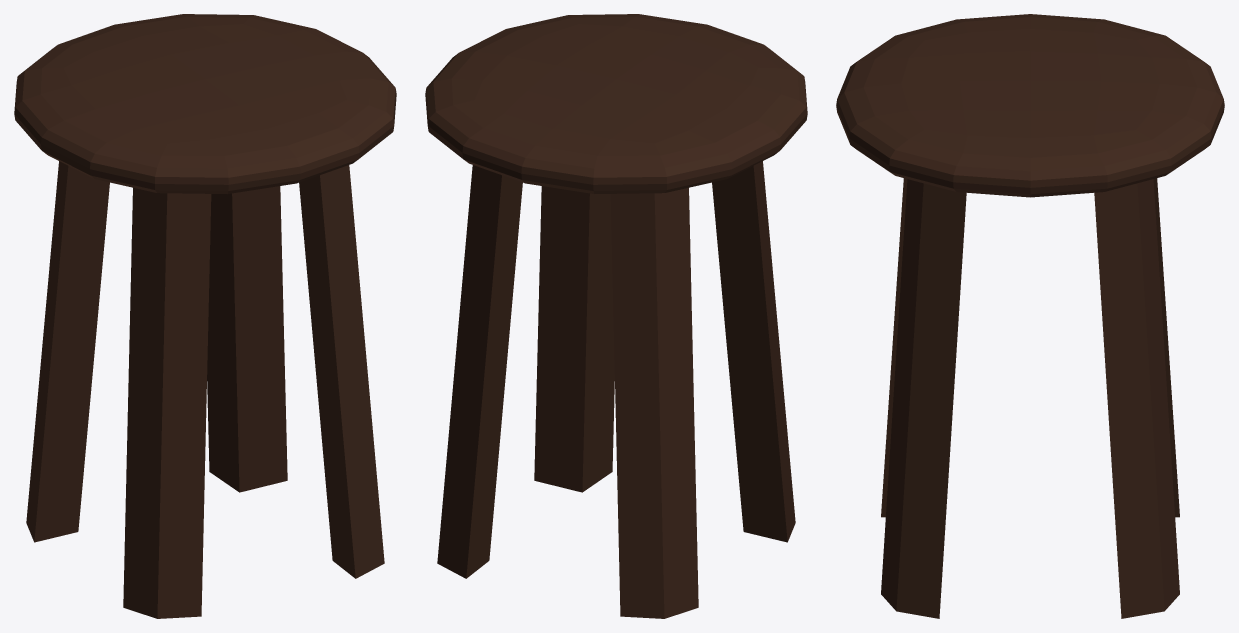
File: stool.fbx
The picture shows the model from 3 angles, left to right: view 1: azimuth 30°, elevation 25°; view 2: azimuth 150°, elevation 25°; view 3: azimuth 270°, elevation 25°; orthographic projection. The views are drawn at different scales.
Visible parts, largest first — view 1: Cube.001; view 2: Cube.001; view 3: Cube.001.
Part boxes in pixels (bbox=[...]): Cube.001: bbox=[14, 14, 396, 618]; Cube.001: bbox=[425, 14, 807, 618]; Cube.001: bbox=[836, 14, 1224, 618].
Bounding box in the file's own units: 1.19 × 1.62 × 1.19.
